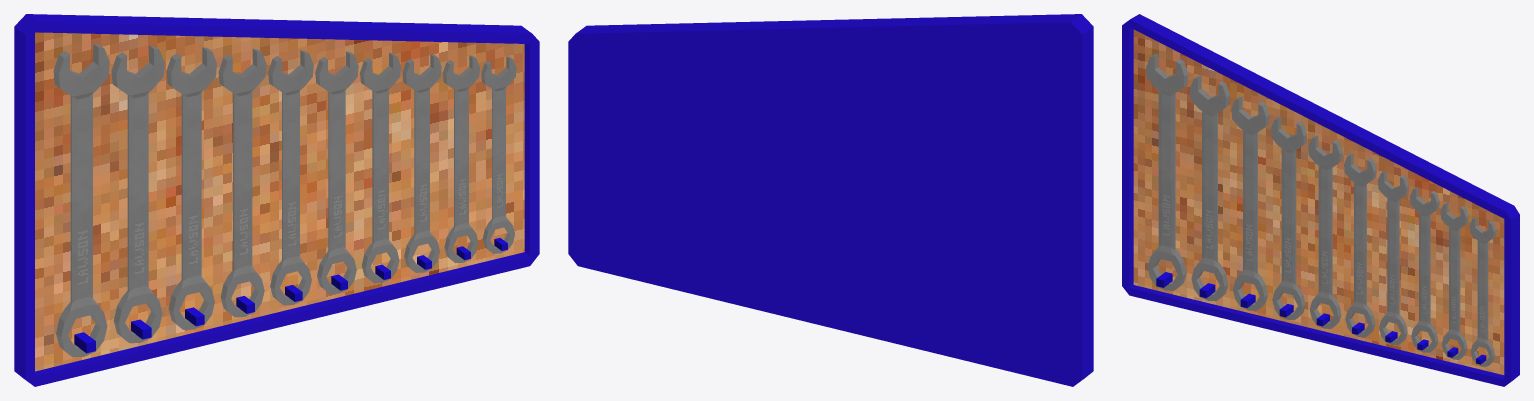
The model's file is wrench-set.glb.
3 renders of one model, left to right at view 1: azimuth 30°, elevation 25°; view 2: azimuth 150°, elevation 25°; view 3: azimuth 330°, elevation 25°, orthographic. The views are drawn at different scales.
Parts seen in each view (by area): view 1: Backer, Wrench, Holder; view 2: Backer; view 3: Backer, Wrench, Holder.
Boxes of the visible parts, bbox=[...] form: Backer: bbox=[14, 14, 539, 386]; Wrench: bbox=[53, 44, 516, 357]; Holder: bbox=[74, 238, 507, 353]; Backer: bbox=[568, 14, 1093, 386]; Backer: bbox=[1122, 14, 1519, 386]; Wrench: bbox=[1146, 53, 1496, 366]; Holder: bbox=[1156, 272, 1486, 364].
Bounding box in the file's own units: 0.538 × 0.3641 × 0.0345.
4 materials, 2 textured.
